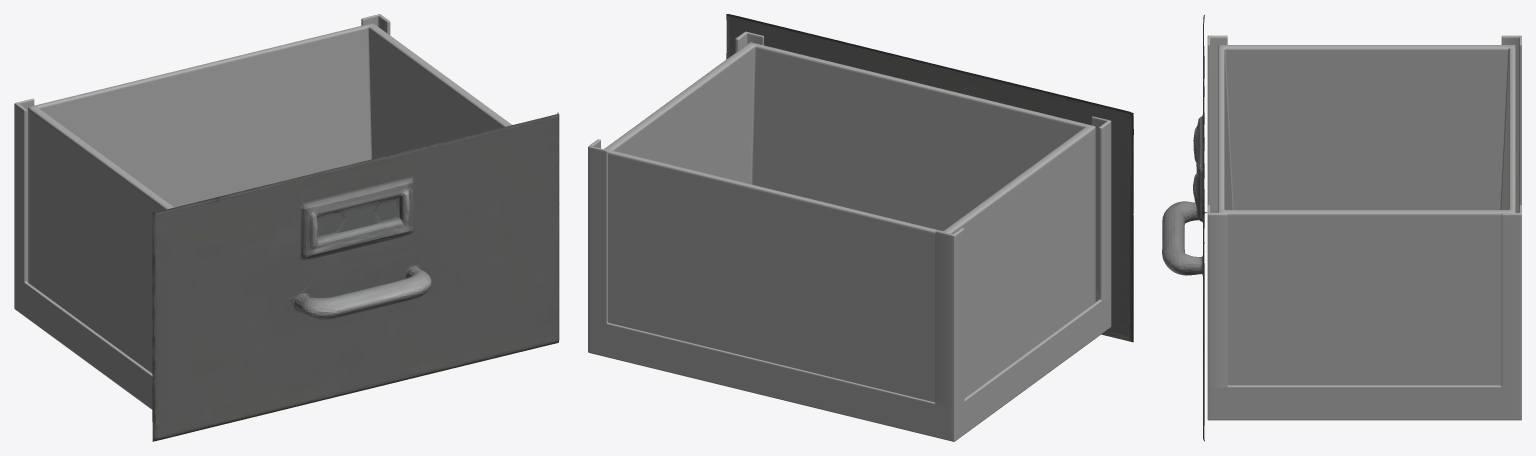
The model's file is drawer_middle.glb.
3 views of the same model, side by side, from view 1: azimuth 30°, elevation 25°; view 2: azimuth 150°, elevation 25°; view 3: azimuth 270°, elevation 25° (orthographic).
Parts seen in each view (by area): view 1: source_front_cap_0, prefab_drawer_body_2; view 2: prefab_drawer_body_2, source_front_cap_0; view 3: prefab_drawer_body_2, source_front_cap_0.
Boxes of the visible parts, bbox=[...] form: source_front_cap_0: bbox=[152, 112, 559, 441]; prefab_drawer_body_2: bbox=[14, 14, 511, 409]; prefab_drawer_body_2: bbox=[588, 31, 1111, 441]; source_front_cap_0: bbox=[726, 14, 1133, 342]; prefab_drawer_body_2: bbox=[1207, 35, 1521, 420]; source_front_cap_0: bbox=[1162, 15, 1207, 441].
Size of the model in its own units: 0.9217 by 0.4965 by 0.7058.
Materials: 2 (1 with a texture image).
